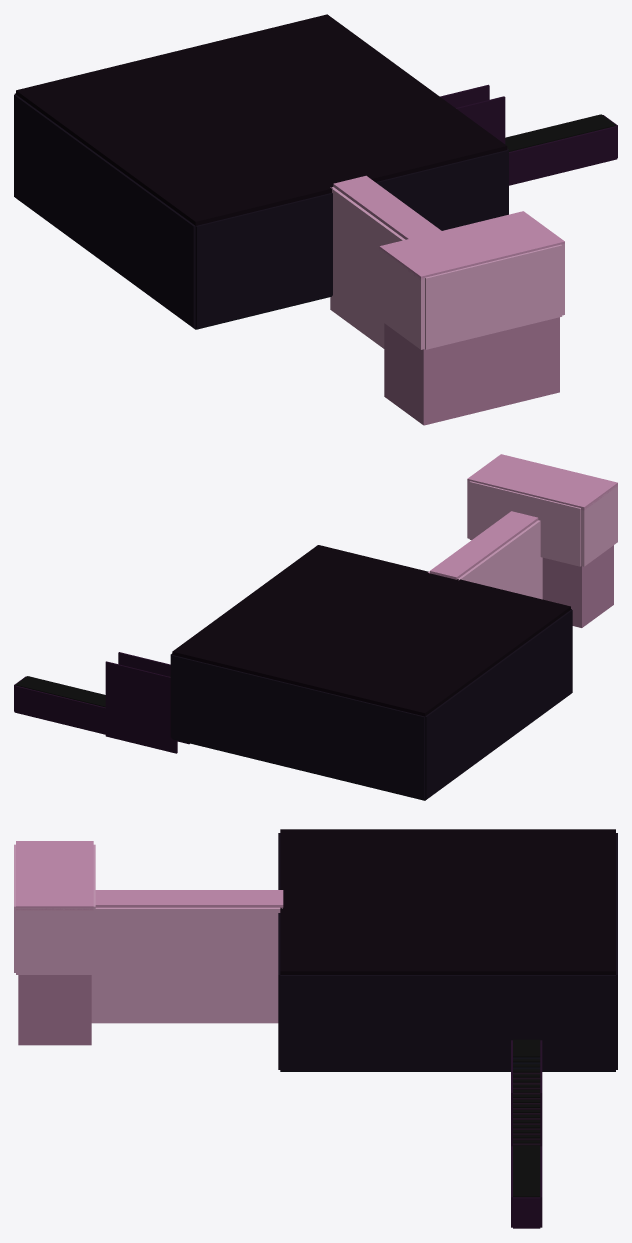
File: club.glb
The picture shows the model from 3 angles, top to bottom: view 1: azimuth 30°, elevation 25°; view 2: azimuth 150°, elevation 25°; view 3: azimuth 270°, elevation 25°; orthographic projection. The views are drawn at different scales.
Visible parts, largest first — view 1: baked; view 2: baked; view 3: baked.
Part boxes in pixels (box(x1,y1,x2,y2)): baked: box(14, 14, 617, 425); baked: box(14, 454, 617, 800); baked: box(14, 829, 617, 1228).
Bounding box in the file's own units: 56.4 × 18.8 × 57.6.
